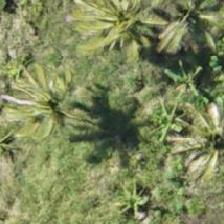coconut_tree: (0, 59, 82, 149), (66, 0, 156, 59), (170, 97, 223, 187)
